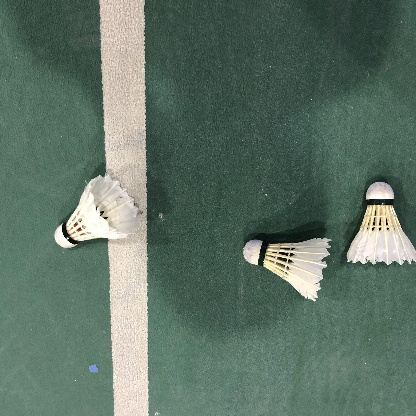ball_single: (54, 175, 139, 248), (346, 182, 416, 265), (243, 237, 332, 302)
